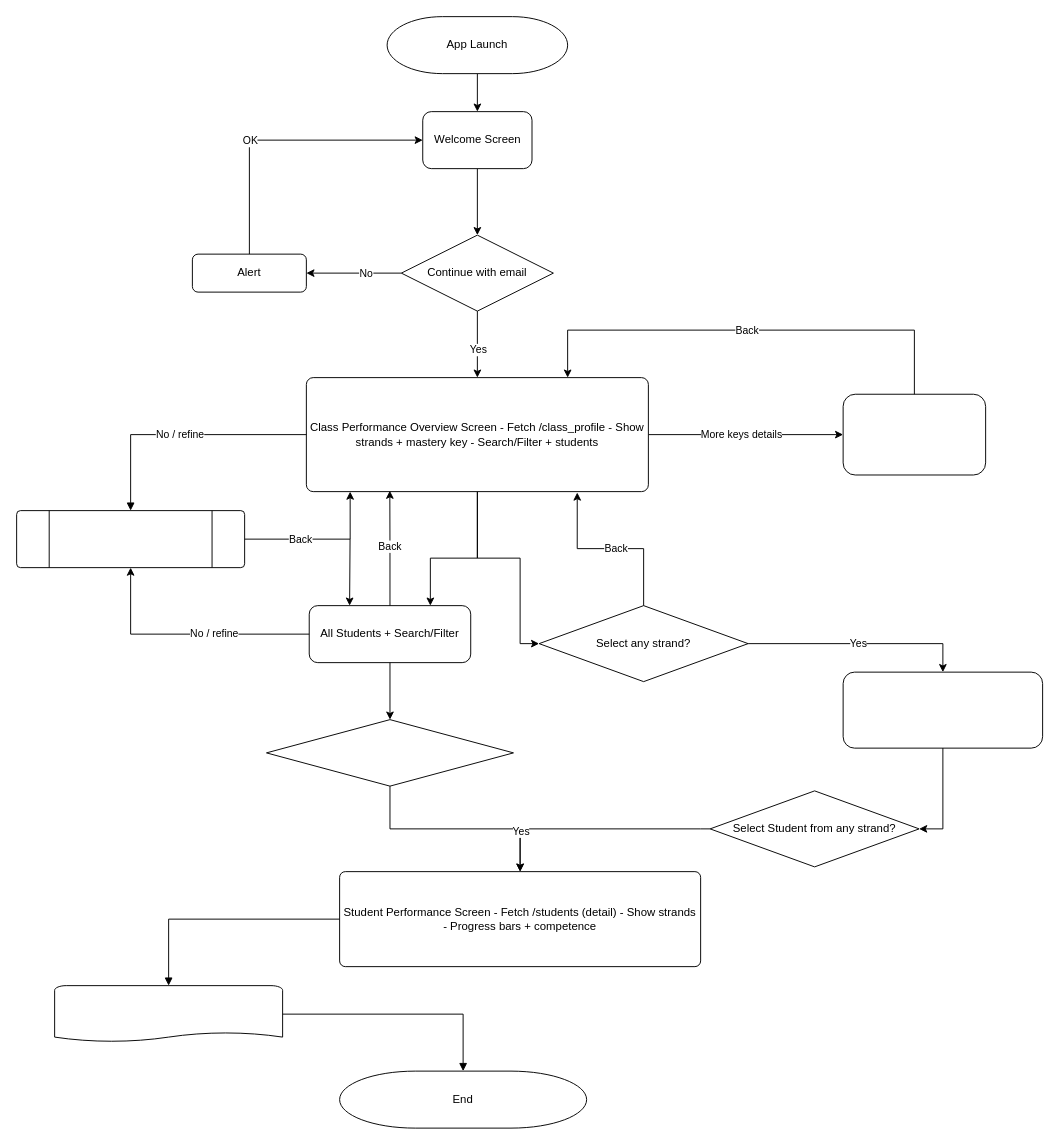
This 1059x1145 diagram has some shape labels left out. Here are the shapes that lost their labels. From the top down, the centre of each, then its label:
At (x=914, y=434): "Master Keys Detailed Description".
At (x=130, y=539): "Use Search / Filter".
At (x=942, y=709): "All student in a strand".
At (x=389, y=752): "Select Student from all students?".
At (x=168, y=1014): "Download Report (share/export)".
